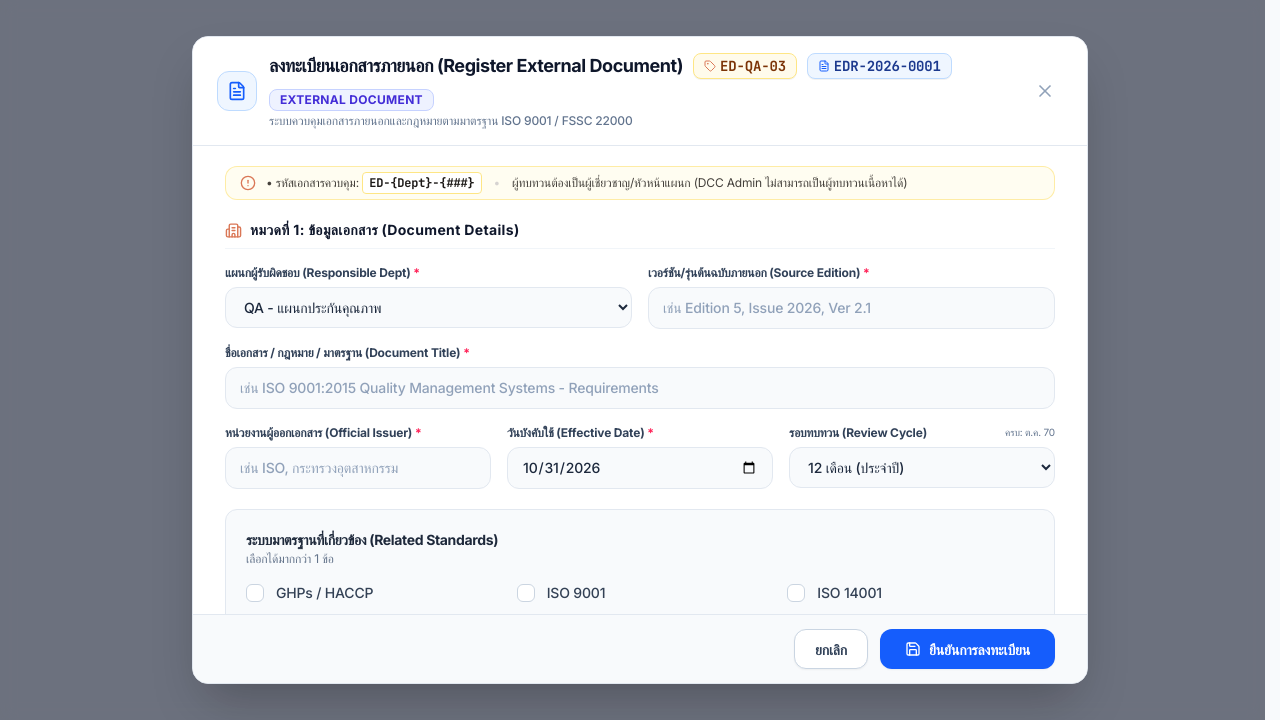
Test: Monotonic Non-Recycling Document Code Sequence Engine (ISO 9001 DCC Compliance) › 5. Reactive Department & Type Switching in UI › reactively updates external doc preview code when department changes in ExternalDocFormModal
Expected: the text "ED-QA-03" is shown, top-left (693, 53), bottom-right (797, 79)
// Change department select to QC (first combobox is department)
Select "QC - แผนกควบคุมคุณภาพ" in the dropdown below "แผนกผู้รับผิดชอบ (Responsible Dept)" at {"x": 428, "y": 308}, box top-left (225, 287), bottom-right (632, 328)
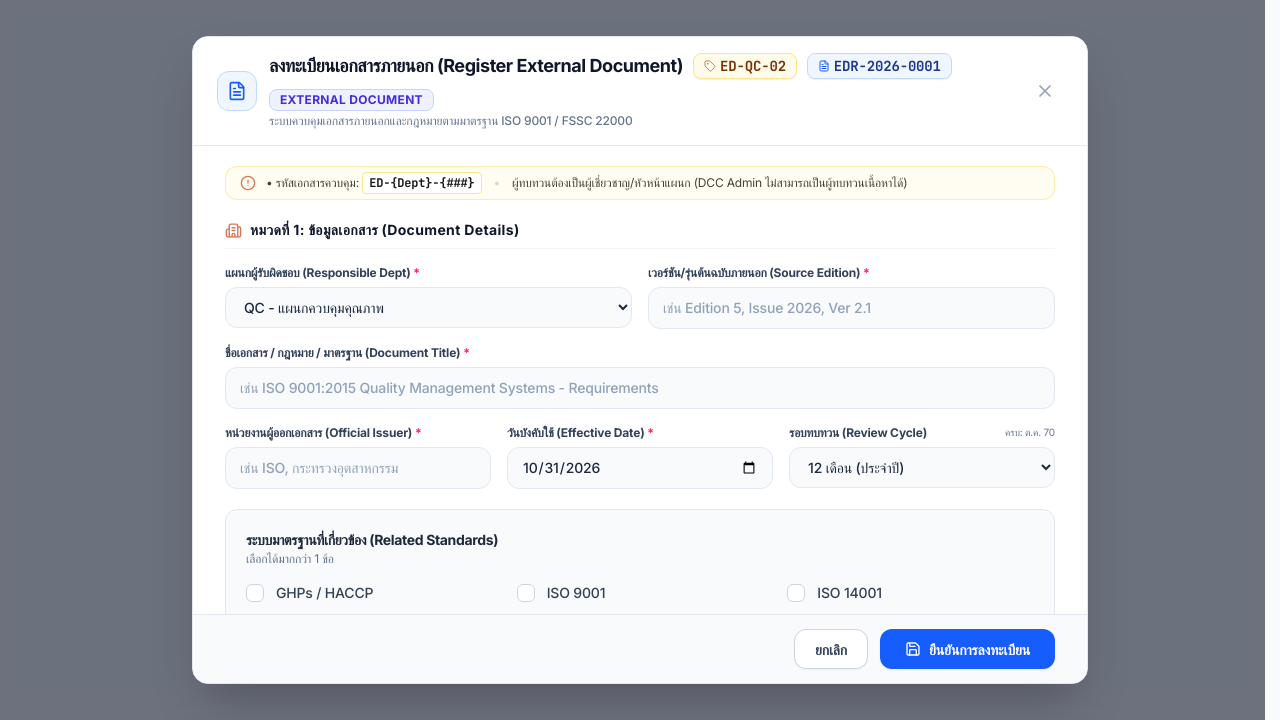
Expected: the text "ED-QC-02" is shown, top-left (693, 53), bottom-right (797, 79)
